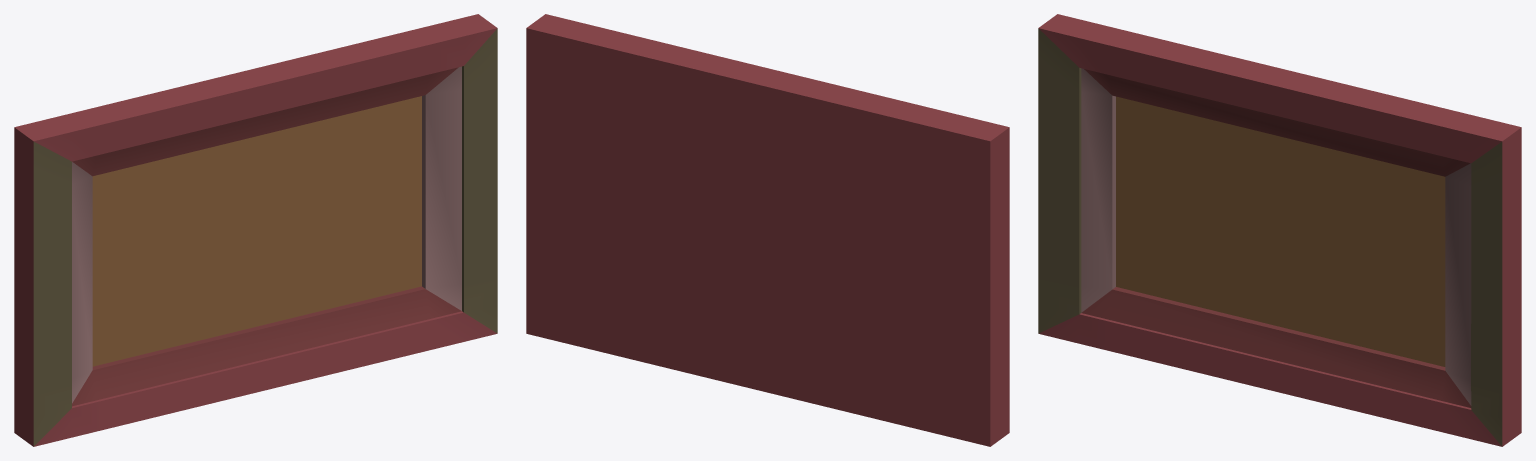
Rendered from PictureFramesBeerBottles_FBX.fbx.
3 views of the same model, side by side, from view 1: azimuth 30°, elevation 25°; view 2: azimuth 150°, elevation 25°; view 3: azimuth 330°, elevation 25° (orthographic).
Parts seen in each view (by area): view 1: Picture_Frames_UV:Frame_2; view 2: Picture_Frames_UV:Frame_2; view 3: Picture_Frames_UV:Frame_2.
Part boxes in pixels (x1,y1,x2,y2): Picture_Frames_UV:Frame_2: [14, 14, 497, 446]; Picture_Frames_UV:Frame_2: [526, 14, 1009, 446]; Picture_Frames_UV:Frame_2: [1038, 14, 1521, 446].
Bounding box in the file's own units: 19.99 × 12.58 × 1.44.
